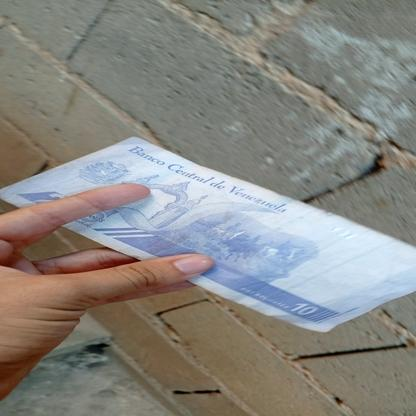ten-back-vef: (0, 138, 416, 334)
